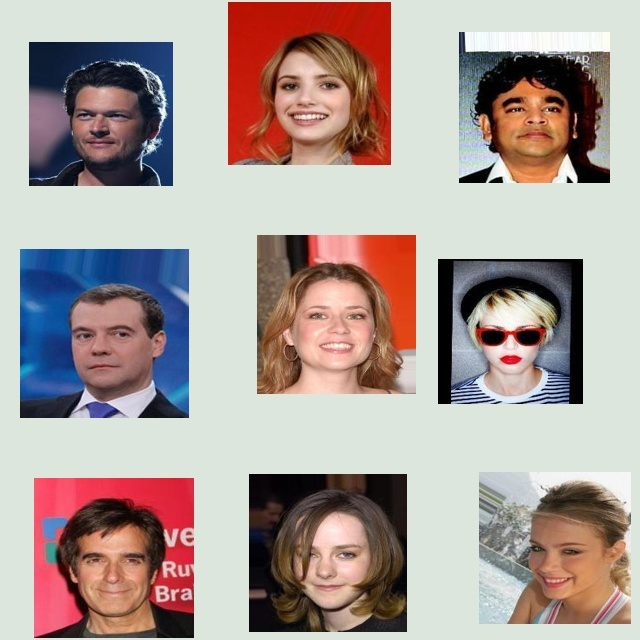celeb_10002: (479, 472, 631, 624)
celeb_1212: (29, 42, 173, 186)
celeb_2336: (34, 478, 194, 638)
celeb_2619: (20, 249, 189, 418)
celeb_2970: (228, 2, 391, 165)
celeb_4422: (249, 474, 407, 632)
celeb_4428: (257, 235, 416, 394)
celeb_7: (459, 32, 610, 183)
celeb_797: (438, 259, 583, 404)
